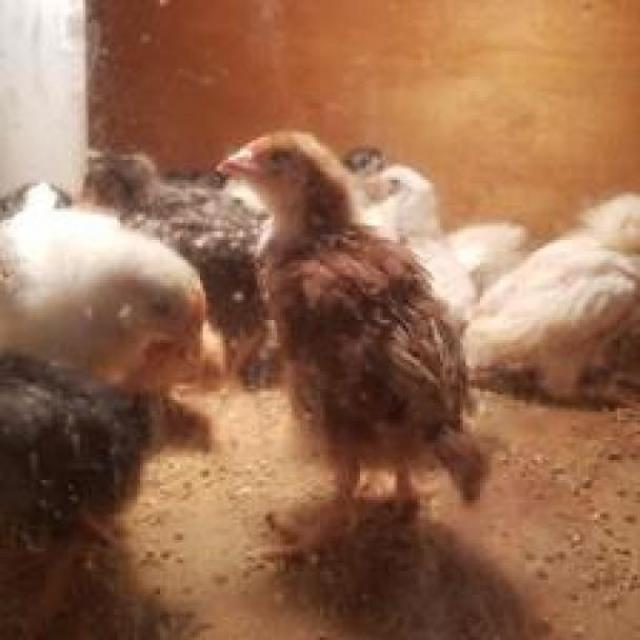Chicken: (208, 127, 505, 568)
